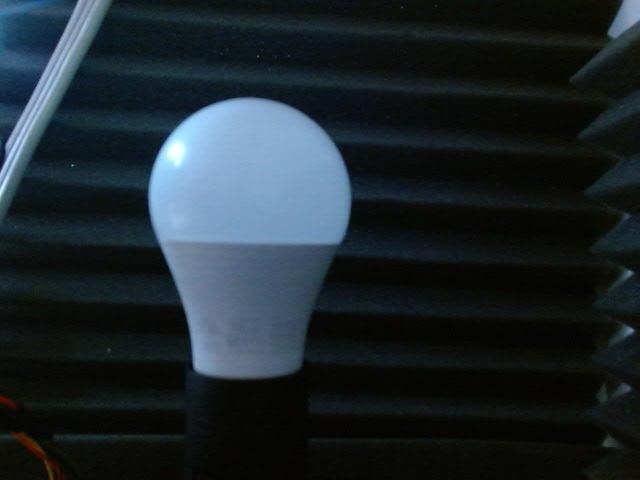Fan: (145, 93, 360, 296)
